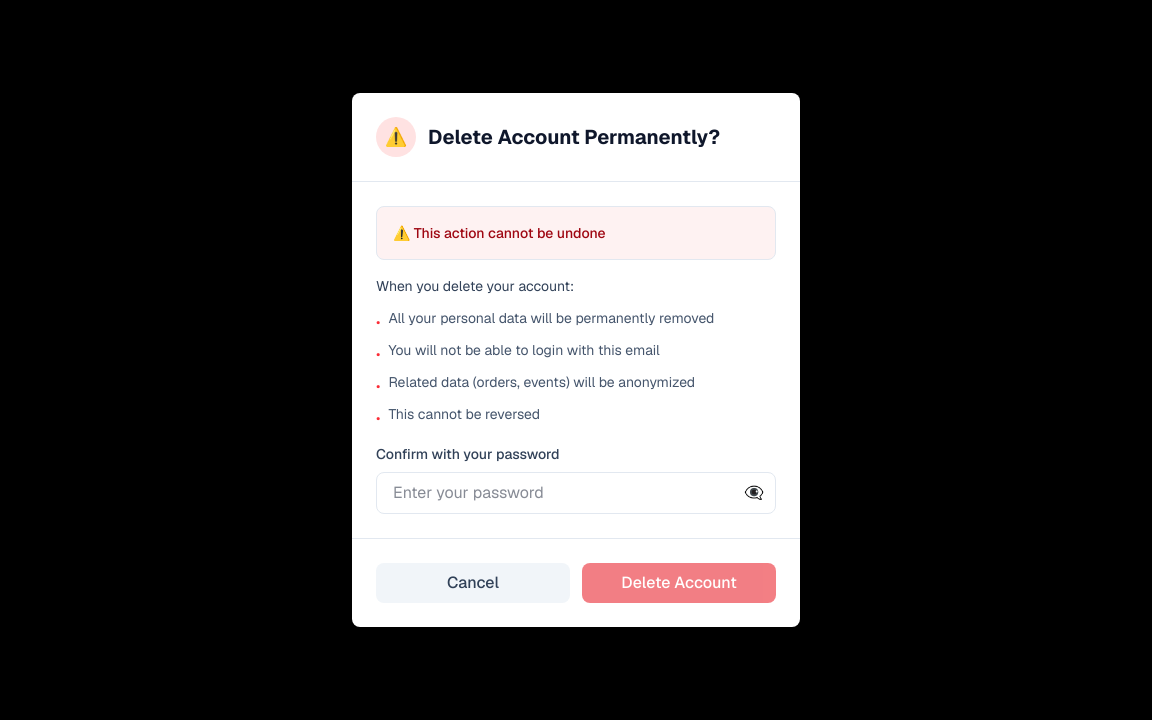
Test: DeleteAccountModal › should show loading state during deletion
In the password field with placeholder "Enter your password": (576, 493) [376,472,776,514], type "password123"
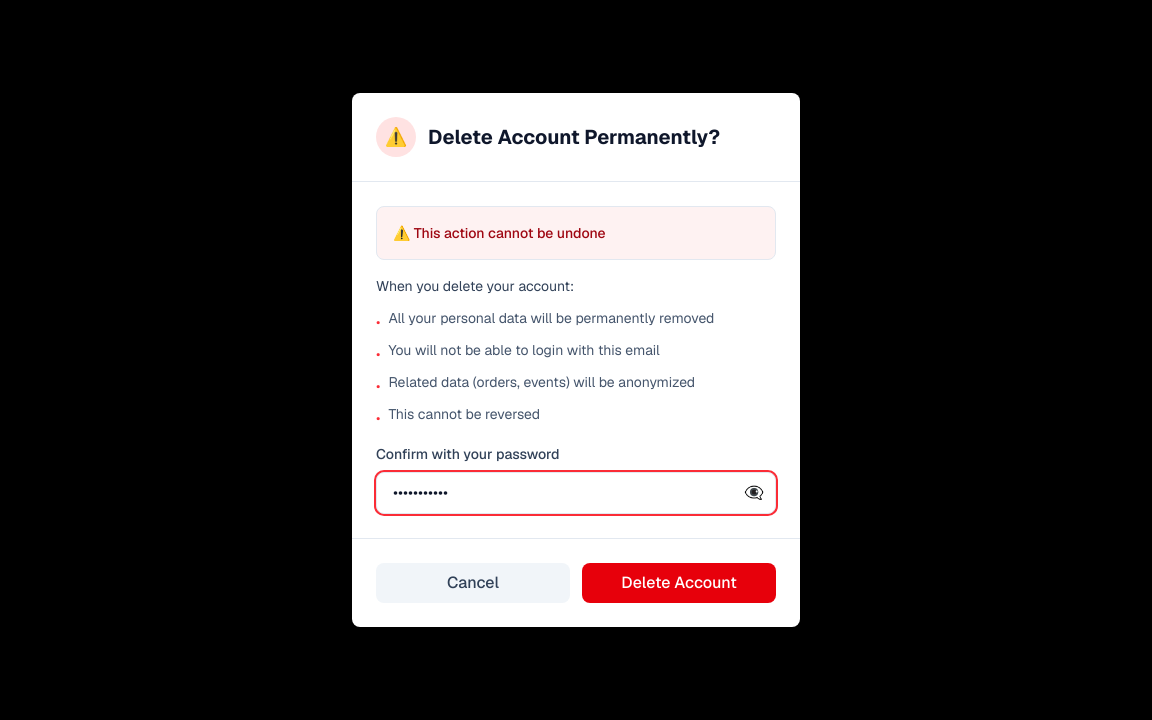
Click the button "Delete Account": (679, 583) [582,563,776,603]
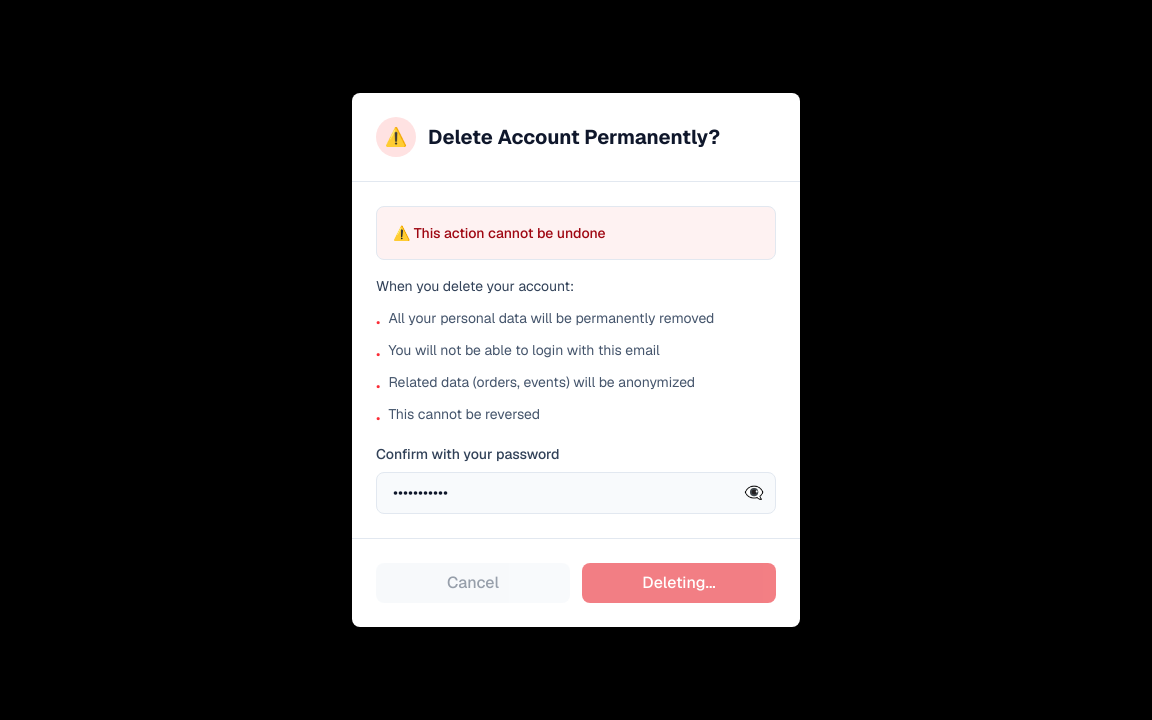
Expected: the button "Deleting..." is shown, [582,563,776,603]
